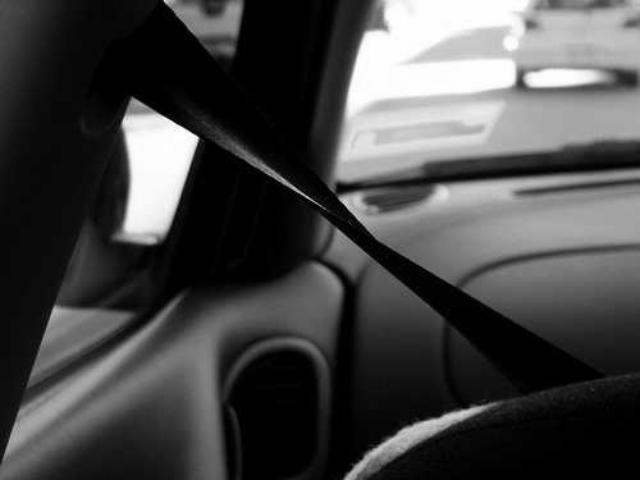Seatbelt: (131, 1, 607, 398)
